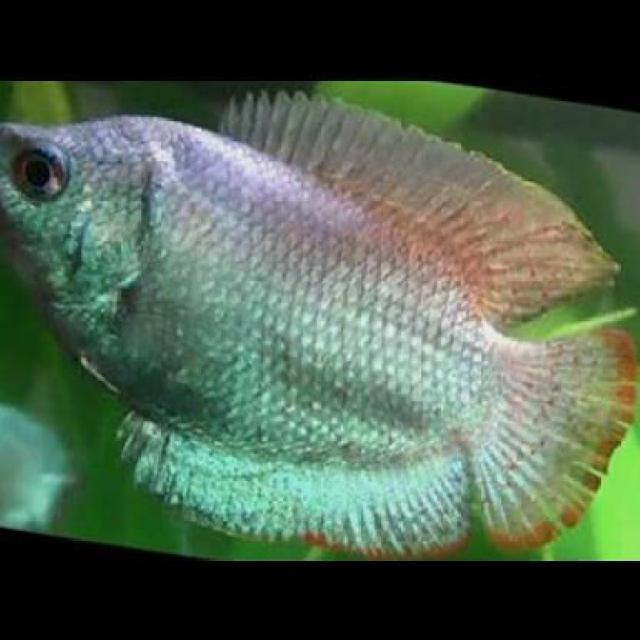Gourami: (1, 89, 638, 563)
